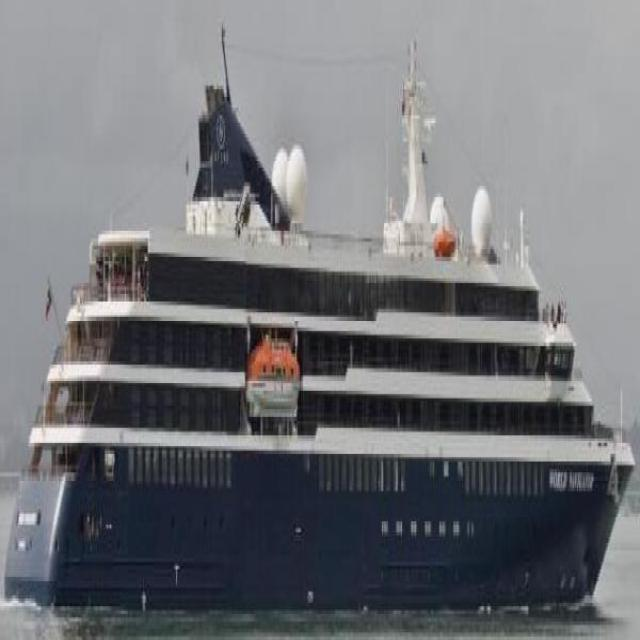Cruise: (5, 62, 634, 608)
